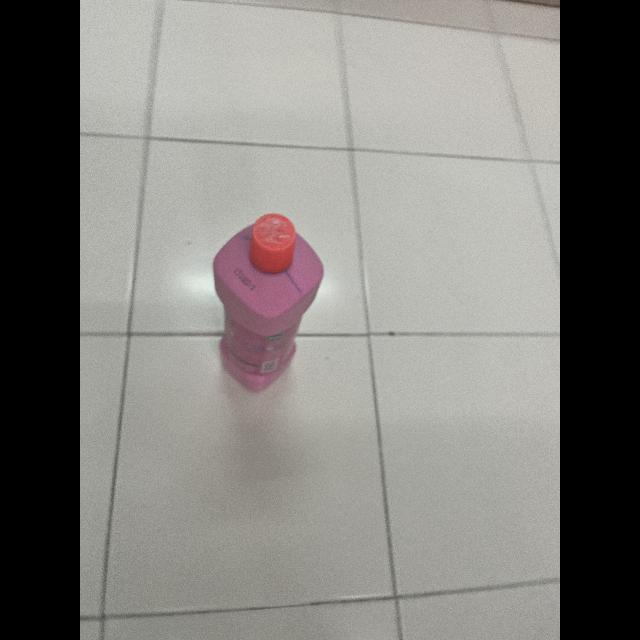chemical_plastic_bottle: (210, 204, 326, 398)
